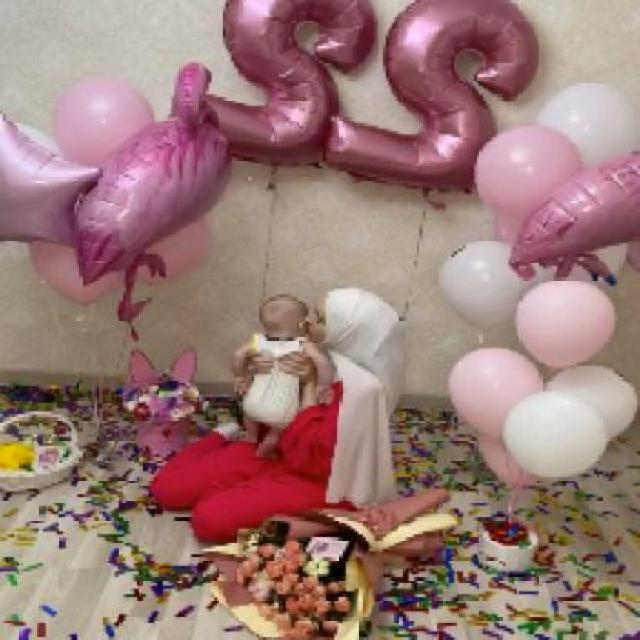child: (228, 293, 338, 456)
